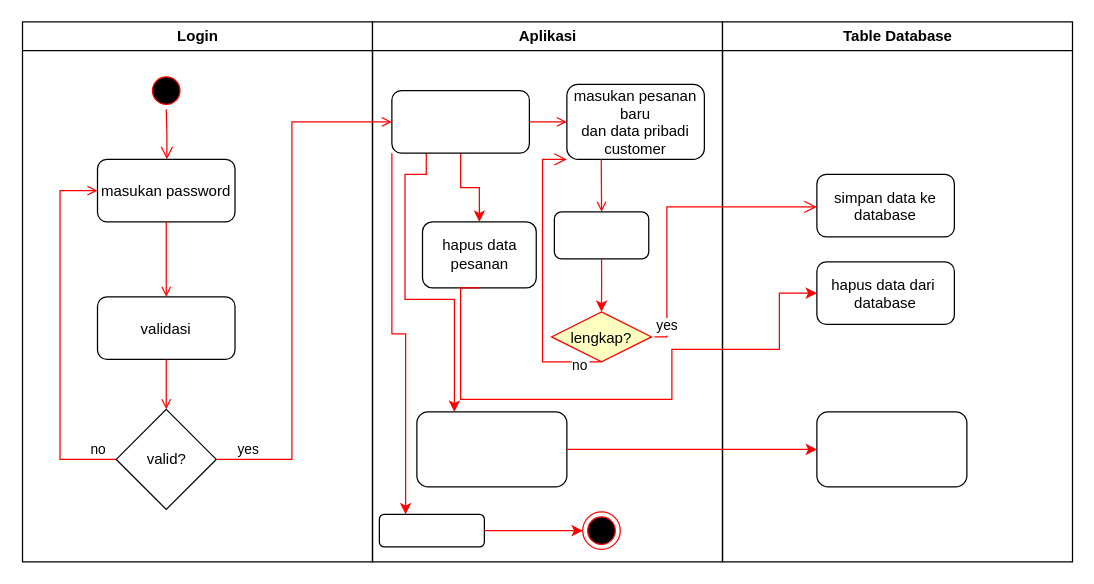
Some shapes in this 1094 by 584 pixel diagram are drawn without their labels. Each missing label, with the centre of its shape:
exit button: point (431, 530)
simpan: point (601, 235)
Tampil Form Pesanan: point (460, 121)
update data pesanan: point (491, 449)
update pesanan database dengan data terbaru: point (891, 449)
